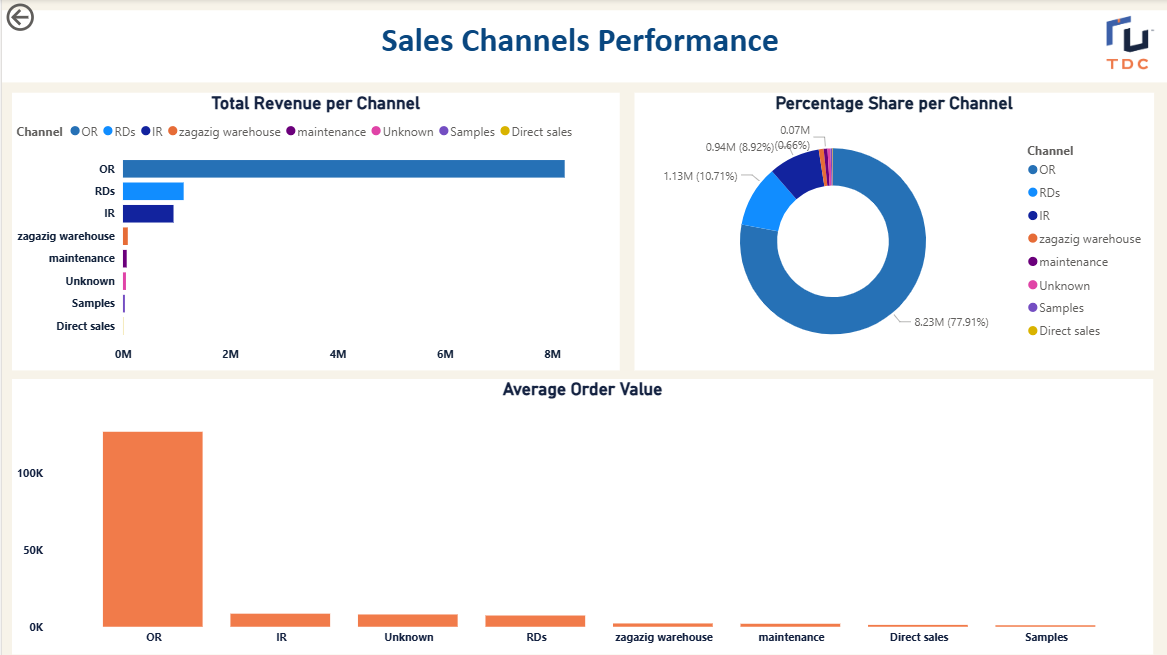

What the dashboard file says about the page in this screenshot:
{"tool":"powerbi","page":{"name":"Page 4","canvas":[1280,720],"ordinal":3},"visuals":[{"type":"shape","box":[0,12.3,1280.3,79.6],"z":0},{"type":"image","box":[1196.6,12.3,83.7,71.4],"z":1000},{"type":"textbox","box":[411.2,0,457.6,92.7],"z":2000},{"type":"barChart","title":"Total Revenue per Channel","fields":{"Category":["Monthly SALES.Channel"],"Series":["Monthly SALES.Channel"],"Y":["Monthly SALES.Total Sales"]},"box":[11.4,102.6,667.1,305],"z":3000},{"type":"actionButton","box":[0,0,100,40],"z":4000},{"type":"donutChart","title":"Percentage Share per Channel","fields":{"Category":["Monthly SALES.Channel"],"Y":["Monthly SALES.Total Sales"]},"box":[694.2,102.6,570.2,305],"z":5000},{"type":"clusteredColumnChart","title":"Average Order Value","fields":{"Y":["Monthly SALES.AOV"],"Category":["Monthly SALES.Channel"]},"box":[11.4,417.6,1252.9,302.2],"z":6000}]}

Visuals, with their boxes in screenshot pixels (x1, y1, x2, y2), scaled from the page's 1280x720 canvas onto the 1167x655 screenshot:
shape: {"x1": 0, "y1": 11, "x2": 1166, "y2": 84}
image: {"x1": 1091, "y1": 11, "x2": 1166, "y2": 76}
textbox: {"x1": 375, "y1": 0, "x2": 792, "y2": 84}
"Total Revenue per Channel" barChart: {"x1": 10, "y1": 93, "x2": 619, "y2": 371}
actionButton: {"x1": 0, "y1": 0, "x2": 91, "y2": 36}
"Percentage Share per Channel" donutChart: {"x1": 633, "y1": 93, "x2": 1153, "y2": 371}
"Average Order Value" clusteredColumnChart: {"x1": 10, "y1": 380, "x2": 1153, "y2": 654}
